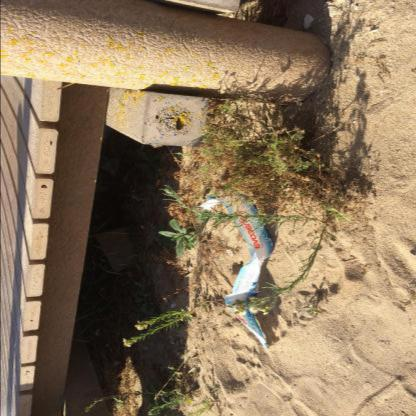Cigarette: (155, 179, 161, 187)
Paper: (197, 195, 274, 351)
